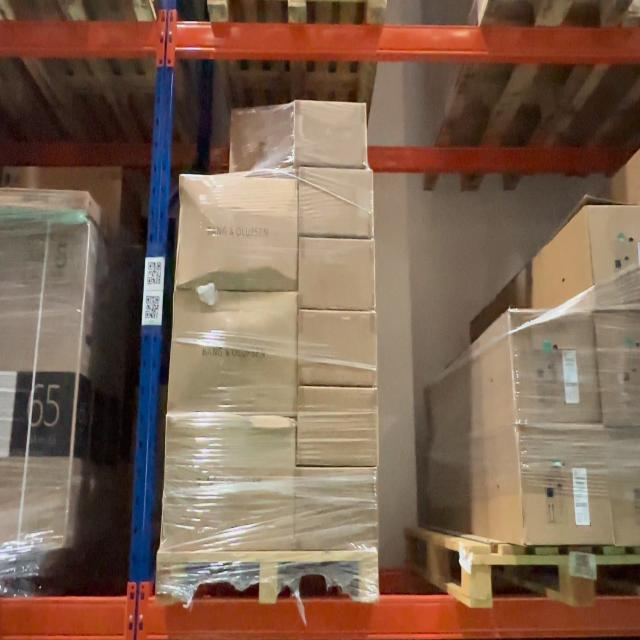box: (164, 418, 295, 550), (172, 294, 294, 412), (178, 176, 296, 288), (522, 431, 608, 544), (512, 315, 596, 425), (299, 390, 377, 466), (297, 472, 374, 548), (590, 206, 640, 308), (298, 169, 372, 236), (301, 314, 372, 382), (300, 242, 371, 309), (297, 103, 366, 166), (600, 314, 639, 424), (234, 110, 294, 170), (609, 430, 639, 544), (0, 188, 88, 214)
